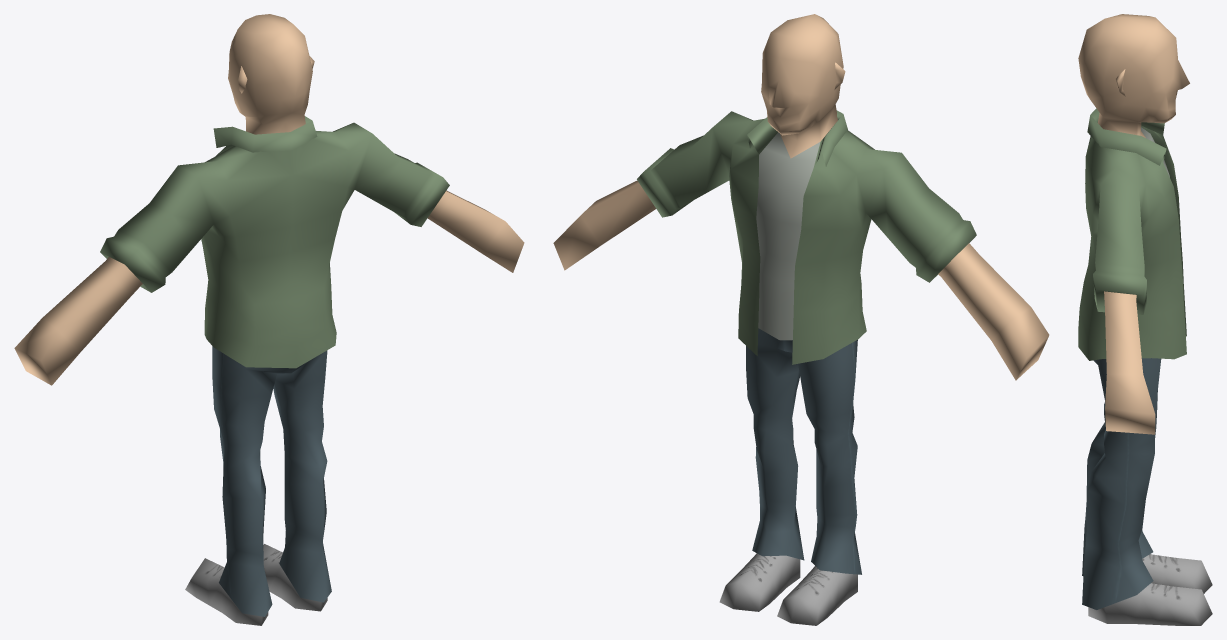
File: anon_snoot.fbx
The picture shows the model from 3 angles, left to right: view 1: azimuth 30°, elevation 25°; view 2: azimuth 150°, elevation 25°; view 3: azimuth 270°, elevation 25°; orthographic projection. The views are drawn at different scales.
Visible parts, largest first — view 1: body.002, shoes; view 2: body.002, shoes; view 3: body.002, shoes.
Part boxes in pixels (box(x1,y1,x2,y2)): body.002: box(14, 14, 524, 616); shoes: box(185, 544, 327, 625); body.002: box(553, 14, 1049, 574); shoes: box(719, 553, 857, 625); body.002: box(1078, 14, 1189, 609); shoes: box(1088, 554, 1212, 625).
Size of the model in its own units: 166 by 191 by 39.77.
